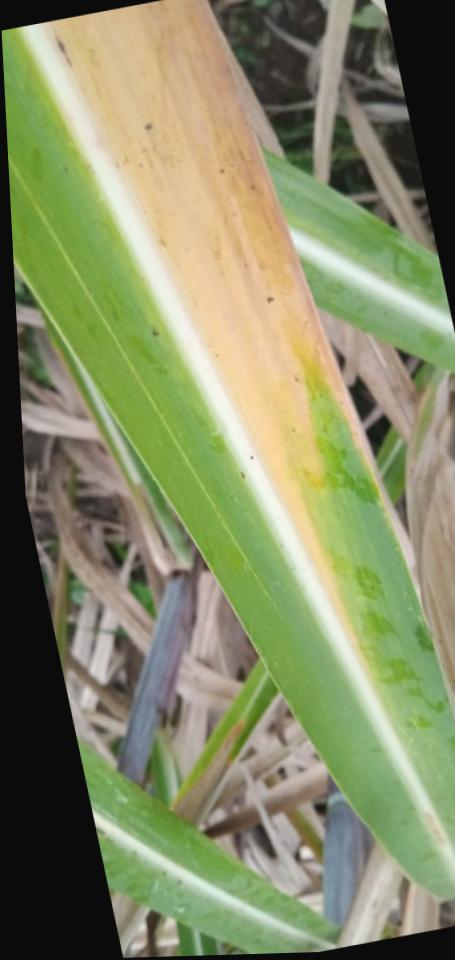Rust: (54, 35, 75, 71), (142, 122, 154, 132), (151, 326, 161, 337), (266, 295, 276, 305), (239, 470, 247, 481), (249, 455, 255, 460)
Yellow: (47, 0, 382, 698)
